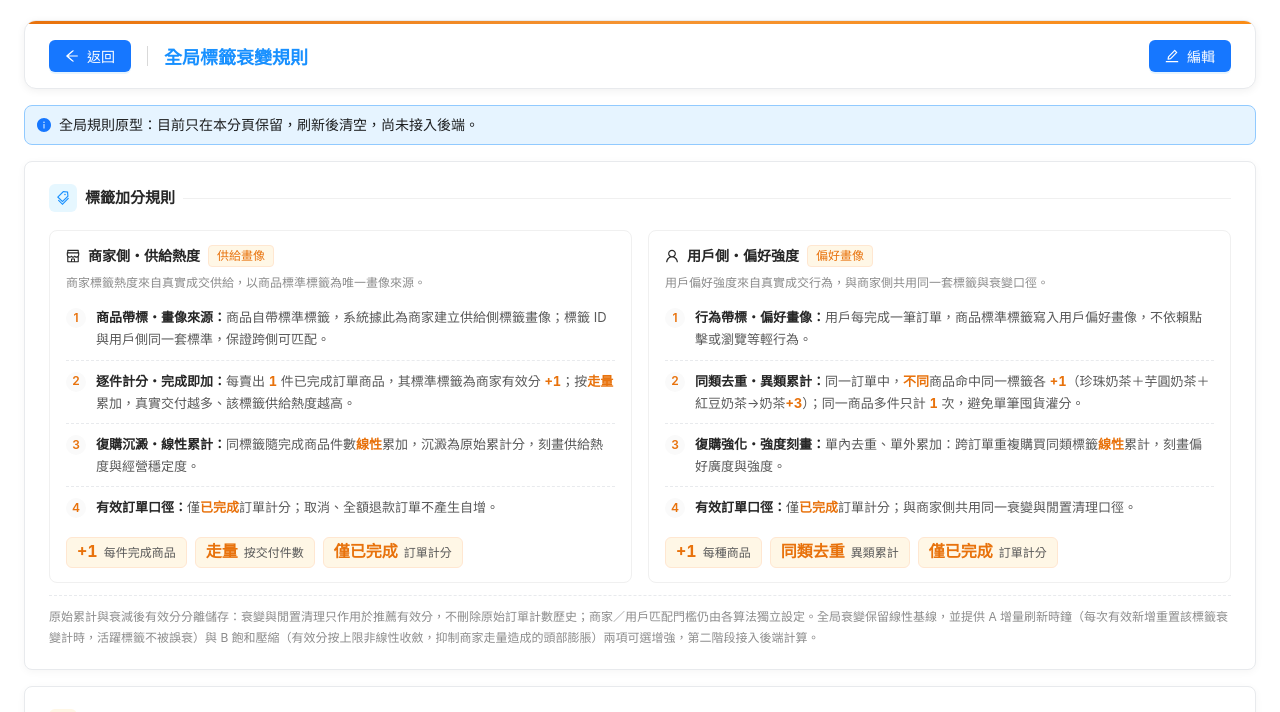
Test case: 全局标签衰变页 UI › 默认只读，持编辑权限者点「编辑」后方可调整
Click the button "編輯".
click(1190, 56)  # box [1149,40,1231,72]
(page scrolled)
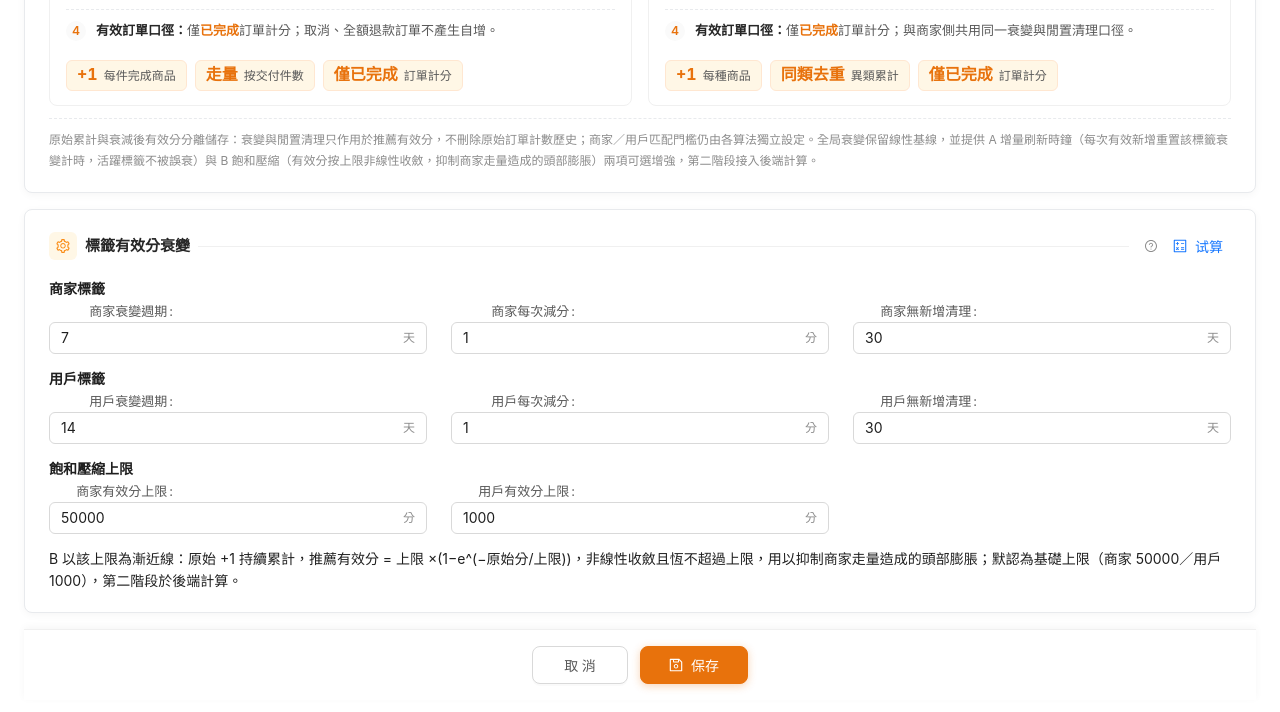
expect the number field labelled "商家衰變週期" is enabled: met, box [61,323,399,353]
expect the button "保存" is shown: met, box [640,646,748,684]
